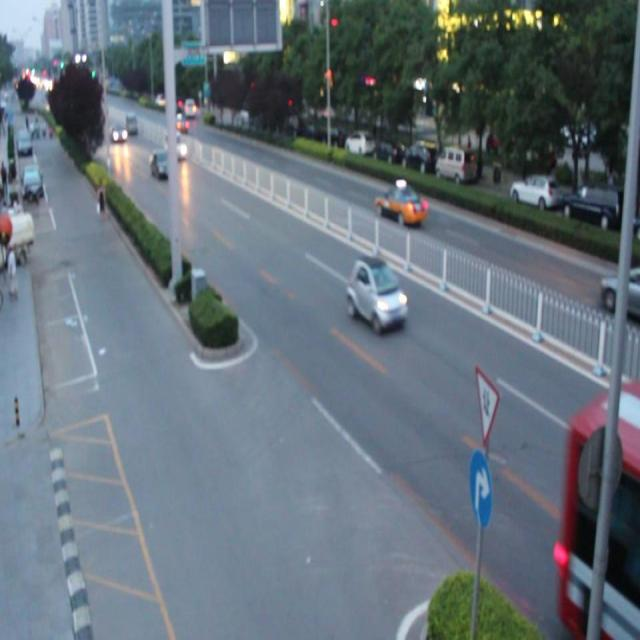car: (346, 257, 406, 330), (597, 262, 640, 323), (373, 182, 425, 226), (150, 149, 173, 182)
truck: (164, 132, 187, 160)
van: (556, 372, 640, 640)
